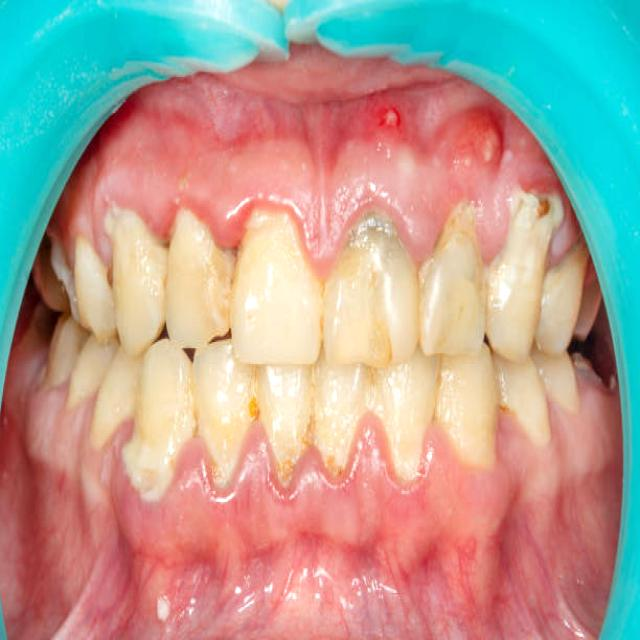calculus: (488, 193, 562, 290), (343, 216, 410, 270), (375, 403, 416, 483), (125, 427, 170, 499), (215, 400, 254, 480), (278, 419, 312, 482), (174, 387, 193, 455), (213, 243, 232, 307)
gingivitis: (68, 107, 543, 253), (113, 463, 515, 577)
